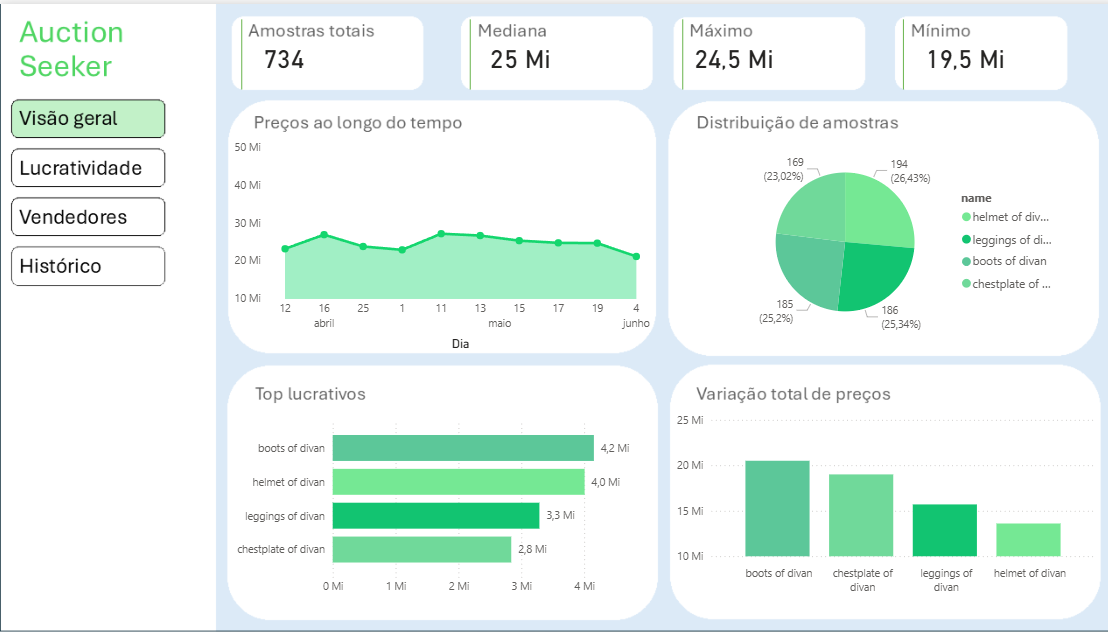

This screenshot's page, from the dashboard's own definition file:
{"tool":"powerbi","page":{"name":"pagina 1","canvas":[1280,720],"ordinal":0},"visuals":[{"type":"barChart","fields":{"Category":["public auction_items.name"],"Y":["public auction_items.Lucro Potencial"]},"box":[258.6,464.3,487.1,220],"z":0},{"type":"columnChart","fields":{"Category":["public auction_items.name"],"Y":["public auction_items.Spread"]},"box":[790.4,464.2,489.8,221.5],"z":1000},{"type":"stackedAreaChart","fields":{"Y":["Avg(public auction_items.price)"],"Category":["public auction_items.scan_timestamp.Variation.Hierarquia de datas.Mês","public auction_items.scan_timestamp.Variation.Hierarquia de datas.Dia"]},"box":[264.8,149.6,487.1,251.1],"z":2000},{"type":"pieChart","fields":{"Y":["CountNonNull(public auction_items.id)"],"Category":["public auction_items.name"]},"box":[770,150,468.6,244.3],"z":3000},{"type":"card","fields":{"Values":["CountNonNull(public auction_items.id)"]},"box":[275,31.2,94.6,62.3],"z":4000},{"type":"card","fields":{"Values":["Max(public auction_items.price)"]},"box":[782.6,30.1,111.3,62.3],"z":5000},{"type":"card","fields":{"Values":["Min(public auction_items.price)"]},"box":[1023,28.9,138,63.5],"z":6000},{"type":"card","fields":{"Values":["Median(public auction_items.price)"]},"box":[537.7,31.2,113.5,62.3],"z":7000},{"type":"actionButton","box":[17.5,110,172.5,45],"z":8000},{"type":"actionButton","box":[19.2,275.8,171.5,43.9],"z":9000},{"type":"actionButton","box":[17.5,224.2,172.5,40.8],"z":10000},{"type":"actionButton","box":[17.8,166,172.9,48],"z":11000}]}

Visuals, with their boxes in screenshot pixels (x1, y1, x2, y2), scaled from the page's 1280x720 canvas onto the 1108x632 screenshot:
barChart - public auction_items.name x public auction_items.Lucro Potencial: bbox=[224, 408, 645, 601]
columnChart - public auction_items.name x public auction_items.Spread: bbox=[684, 407, 1107, 602]
stackedAreaChart - Avg(public auction_items.price) x public auction_items.scan_timestamp.Variation.Hierarquia de datas.Mês: bbox=[229, 131, 651, 352]
pieChart - CountNonNull(public auction_items.id) x public auction_items.name: bbox=[667, 132, 1072, 346]
card - CountNonNull(public auction_items.id): bbox=[238, 27, 320, 82]
card - Max(public auction_items.price): bbox=[677, 26, 774, 81]
card - Min(public auction_items.price): bbox=[886, 25, 1005, 81]
card - Median(public auction_items.price): bbox=[465, 27, 564, 82]
actionButton: bbox=[15, 97, 164, 136]
actionButton: bbox=[17, 242, 165, 281]
actionButton: bbox=[15, 197, 164, 233]
actionButton: bbox=[15, 146, 165, 188]
